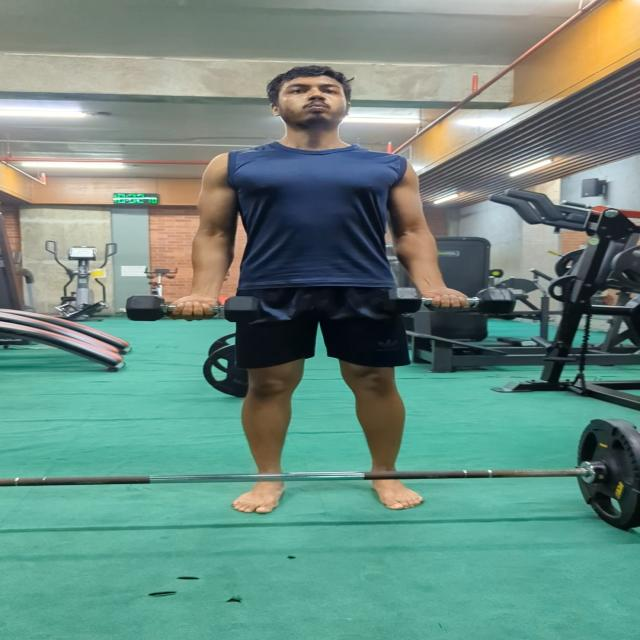Normal_DumbbellBicepCurls: (119, 56, 525, 532)
